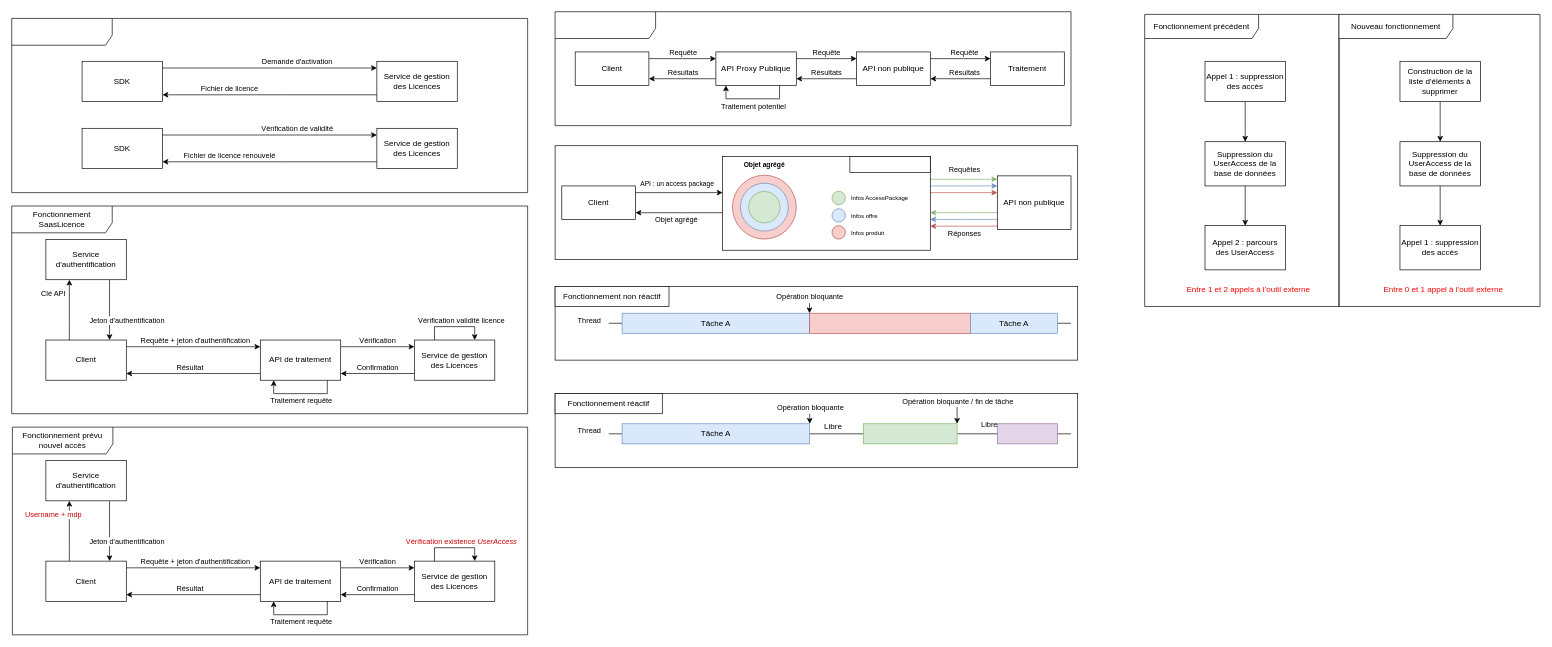
Image size: 1552x647. Some labels were removed from this diagram. The shapes that lost their labels are listed below. From the top down, each one's centre as x and y in pixels, then its label:
At [812,68]: "Échange avec API".
At [269,105]: "Fonctionnement SingleLicense".
At [889,164]: "API Publique".
At [889,323]: "Bloqué".
At [910,433]: "Tâche B".
At [1027,433]: "Tâche X".
